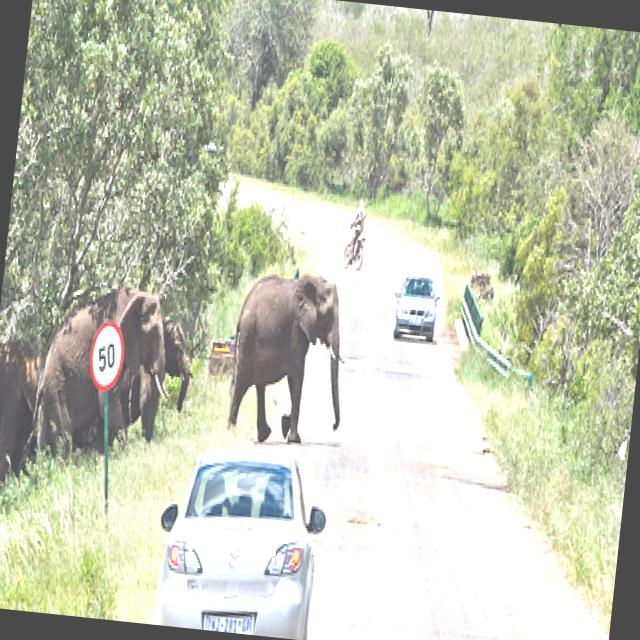Vehicle: (148, 437, 332, 640), (390, 274, 441, 342), (342, 230, 366, 272)
